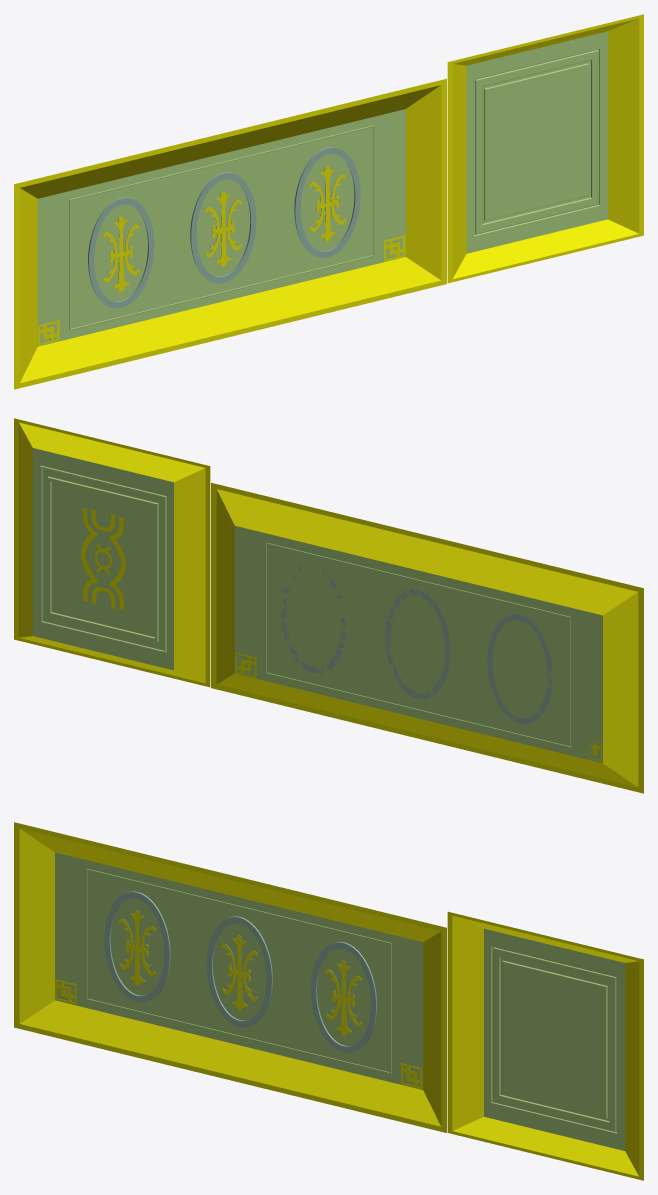
File: counter.glb
3 views of the same model, one above another, from view 1: azimuth 30°, elevation 25°; view 2: azimuth 150°, elevation 25°; view 3: azimuth 330°, elevation 25° (orthographic).
Visible parts, largest first — view 1: Plane.002, Plane, Plane.003, Plane.001, Vert.003, Vert.001, CROSS desion; view 2: Plane.002, Plane, Plane.003, Plane.001, Vert.003, Vert.002, CROSS desion; view 3: Plane.002, Plane, Plane.003, Plane.001, Vert.003, Vert.001, CROSS desion.
Part boxes in pixels (x1,y1,x2,y2): Plane.002: [37, 109, 405, 346]; Plane: [14, 78, 446, 389]; Plane.003: [466, 31, 607, 253]; Plane.001: [447, 14, 643, 283]; Vert.003: [88, 147, 360, 308]; Vert.001: [102, 166, 345, 291]; CROSS desion: [38, 235, 405, 345]; Plane.002: [234, 526, 602, 763]; Plane: [211, 482, 643, 793]; Plane.003: [32, 448, 173, 670]; Plane.001: [14, 418, 210, 687]; Vert.003: [281, 564, 552, 724]; Vert.002: [81, 508, 125, 610]; CROSS desion: [235, 652, 602, 762]; Plane.002: [55, 852, 423, 1089]; Plane: [14, 822, 446, 1132]; Plane.003: [484, 928, 625, 1150]; Plane.001: [447, 911, 643, 1180]; Vert.003: [104, 891, 376, 1052]; Vert.001: [118, 910, 361, 1036]; CROSS desion: [55, 979, 422, 1089].
Bounding box in the file's own units: 27.21 × 9.15 × 0.716.
